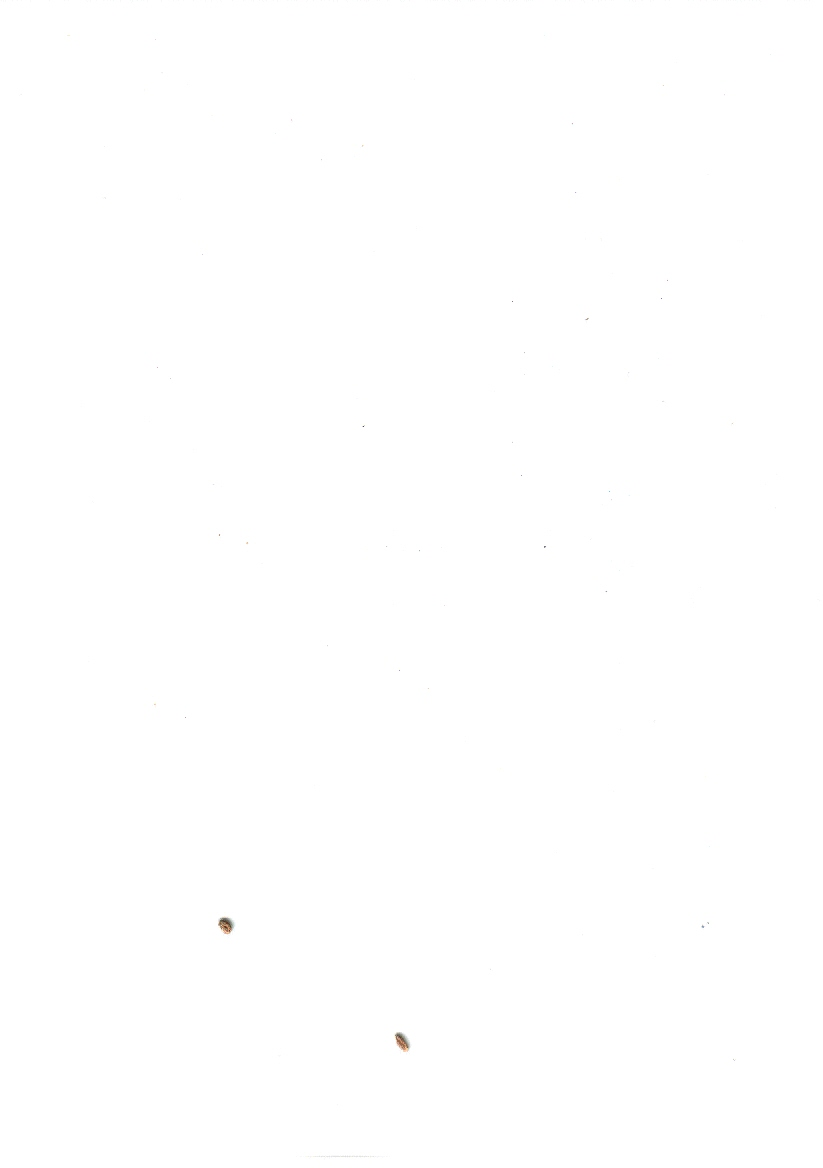grains: (377, 1017, 423, 1059), (212, 907, 241, 955)
